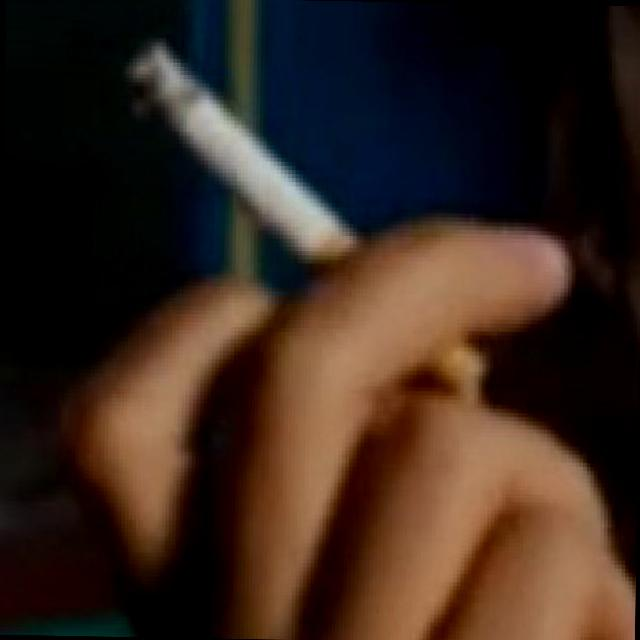smoke: (114, 25, 374, 272)
